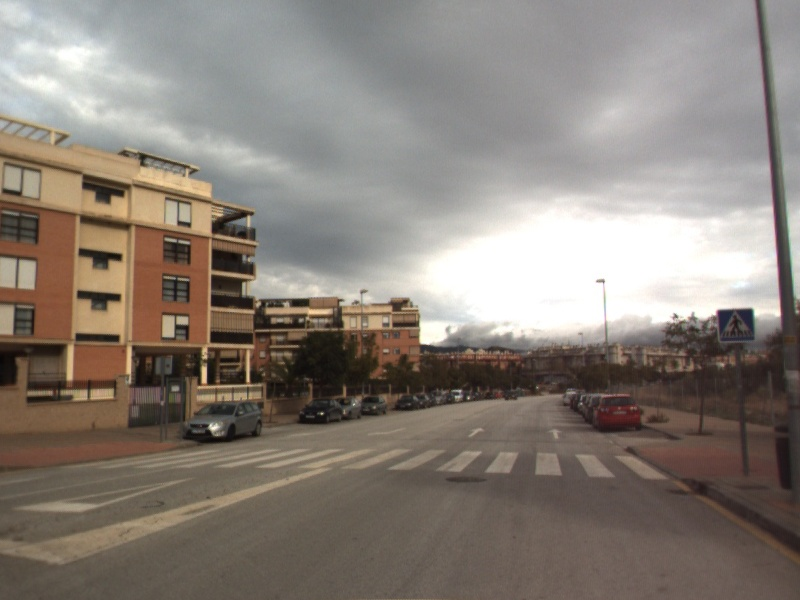STRAIGHT: (466, 425, 487, 439), (546, 426, 565, 440)
